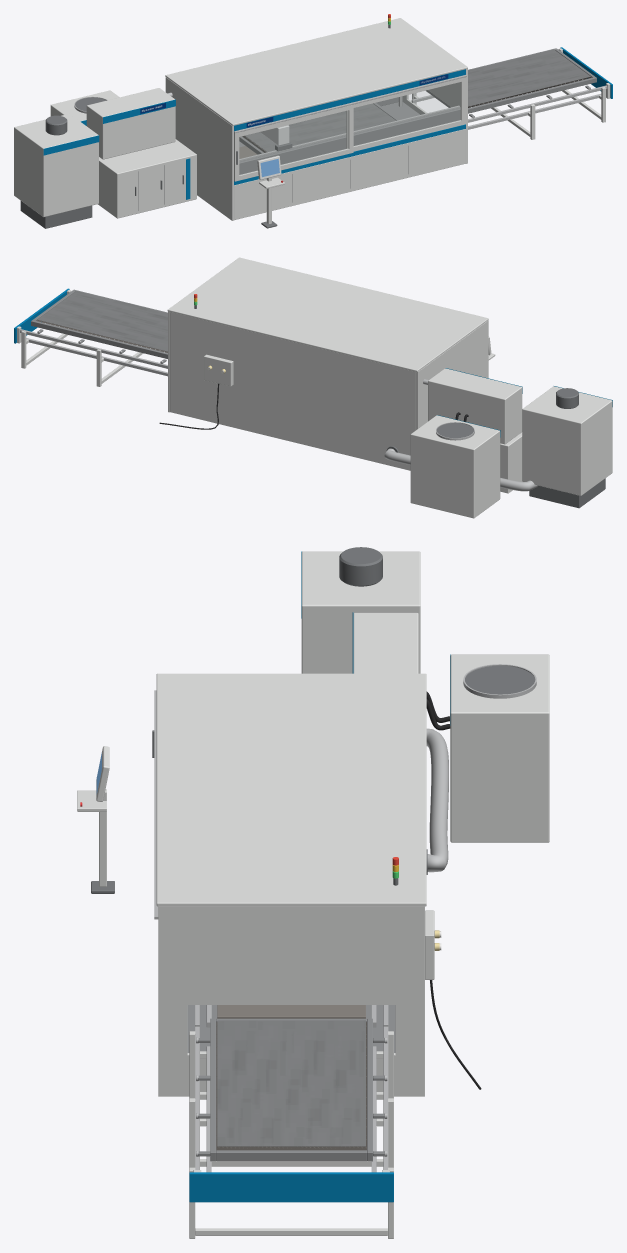
Rendered from m07-bystronic-byspeed.glb.
The picture shows the model from 3 angles, top to bottom: view 1: azimuth 30°, elevation 25°; view 2: azimuth 150°, elevation 25°; view 3: azimuth 270°, elevation 25°; orthographic projection. The views are drawn at different scales.
Size of the model in its own units: 12.6 by 2.46 by 4.76.
Materials: 30 (4 with a texture image).
